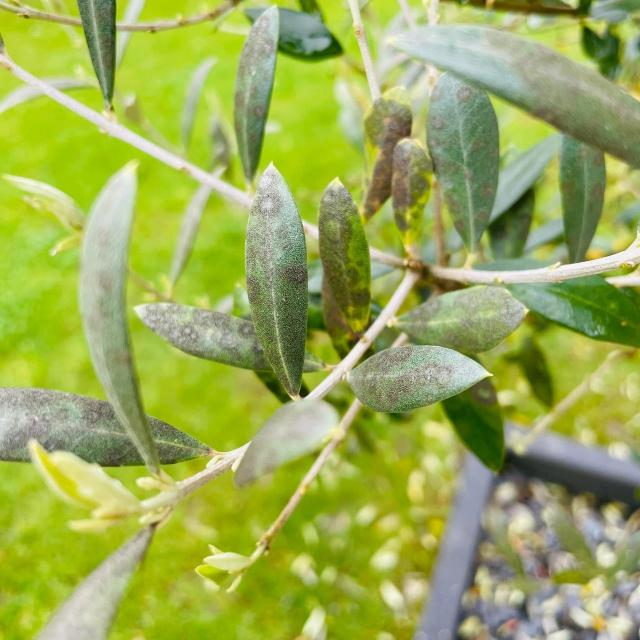Peacock Eye: (246, 164, 308, 394), (427, 73, 498, 248), (362, 88, 432, 236), (347, 346, 488, 413), (318, 178, 372, 348), (134, 303, 270, 370), (234, 6, 280, 178)
